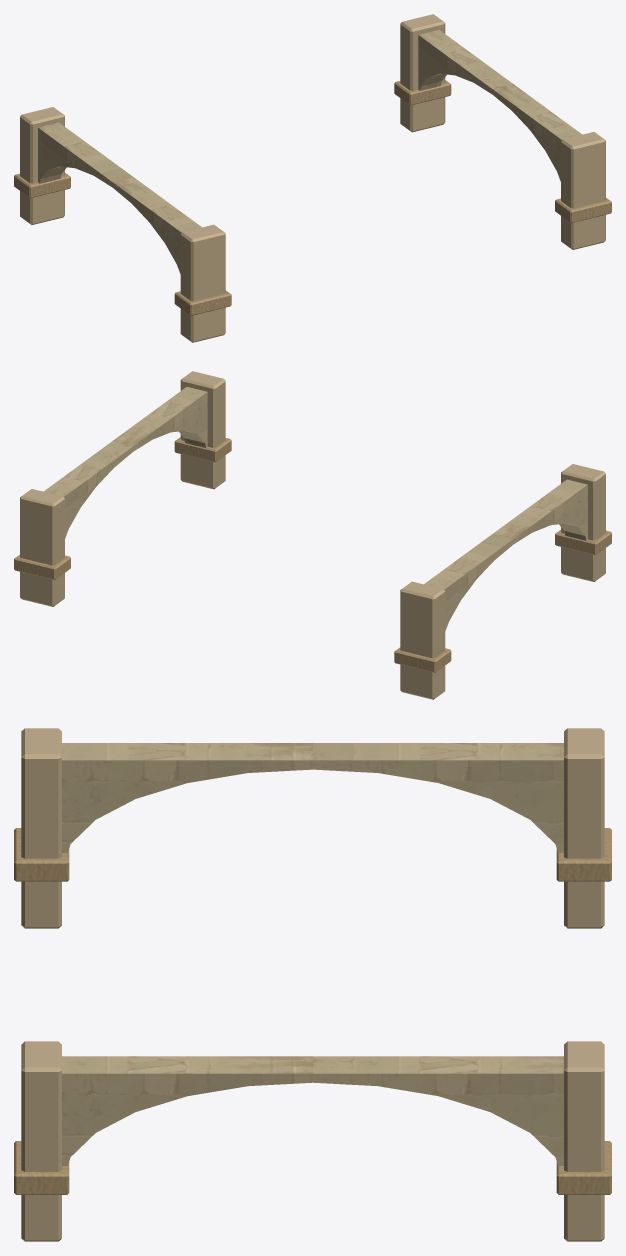
Rendered from stone-bridge-arcade.glb.
3 renders of one model, top to bottom at view 1: azimuth 30°, elevation 25°; view 2: azimuth 150°, elevation 25°; view 3: azimuth 270°, elevation 25°, orthographic. The views are drawn at different scales.
Visible parts, largest first — view 1: stone-bridge-arcade|3dtextures-dressed-limestone, stone-bridge-arcade|3dtextures-limestone-coping; view 2: stone-bridge-arcade|3dtextures-dressed-limestone, stone-bridge-arcade|3dtextures-limestone-coping; view 3: stone-bridge-arcade|3dtextures-dressed-limestone, stone-bridge-arcade|3dtextures-limestone-coping.
Boxes of the visible parts, <box> form: stone-bridge-arcade|3dtextures-dressed-limestone: <box>20,14,605,342</box>; stone-bridge-arcade|3dtextures-limestone-coping: <box>14,80,611,315</box>; stone-bridge-arcade|3dtextures-dressed-limestone: <box>20,371,605,699</box>; stone-bridge-arcade|3dtextures-limestone-coping: <box>14,437,611,672</box>; stone-bridge-arcade|3dtextures-dressed-limestone: <box>21,728,604,1241</box>; stone-bridge-arcade|3dtextures-limestone-coping: <box>14,828,611,1194</box>.
Bounding box in the file's own units: 5.64 × 1.32 × 4.1.
Materials: 2 (2 with a texture image).
